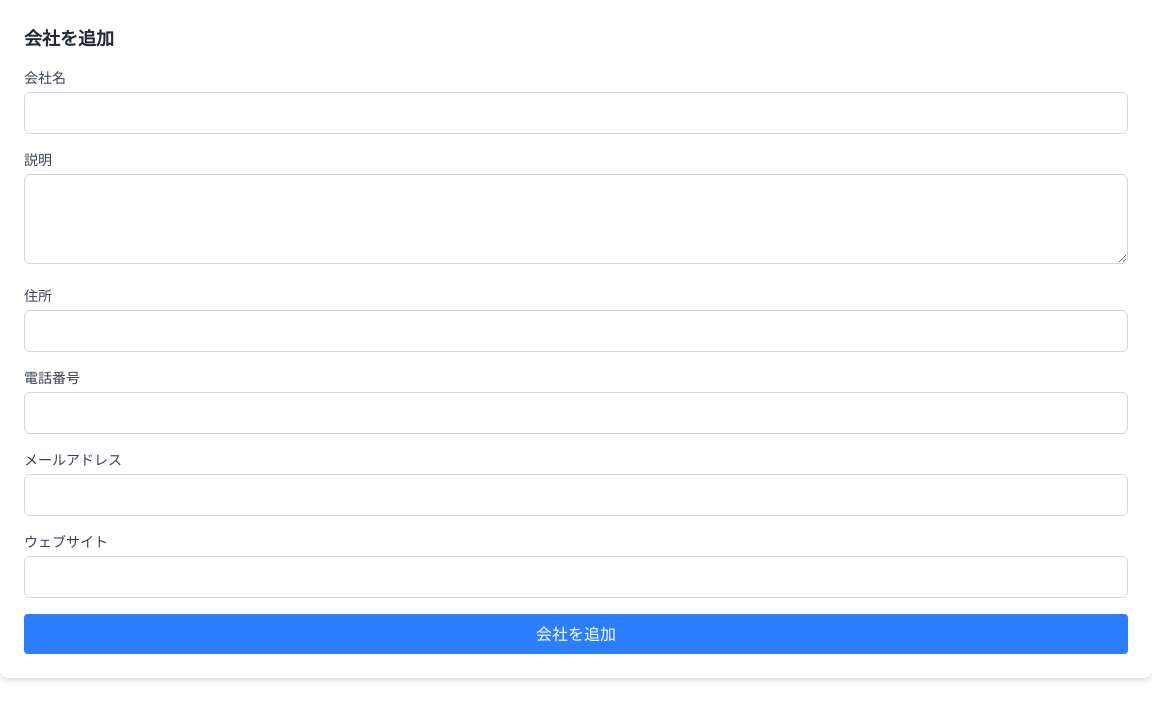
Test: CompanyForm Component › should show loading state during submission
The width and height of the screenshot is (1152, 720).
# Fill in the required field
Type "Test Company" into the field labelled "会社名" at (576, 113), box [24,92,1128,134]
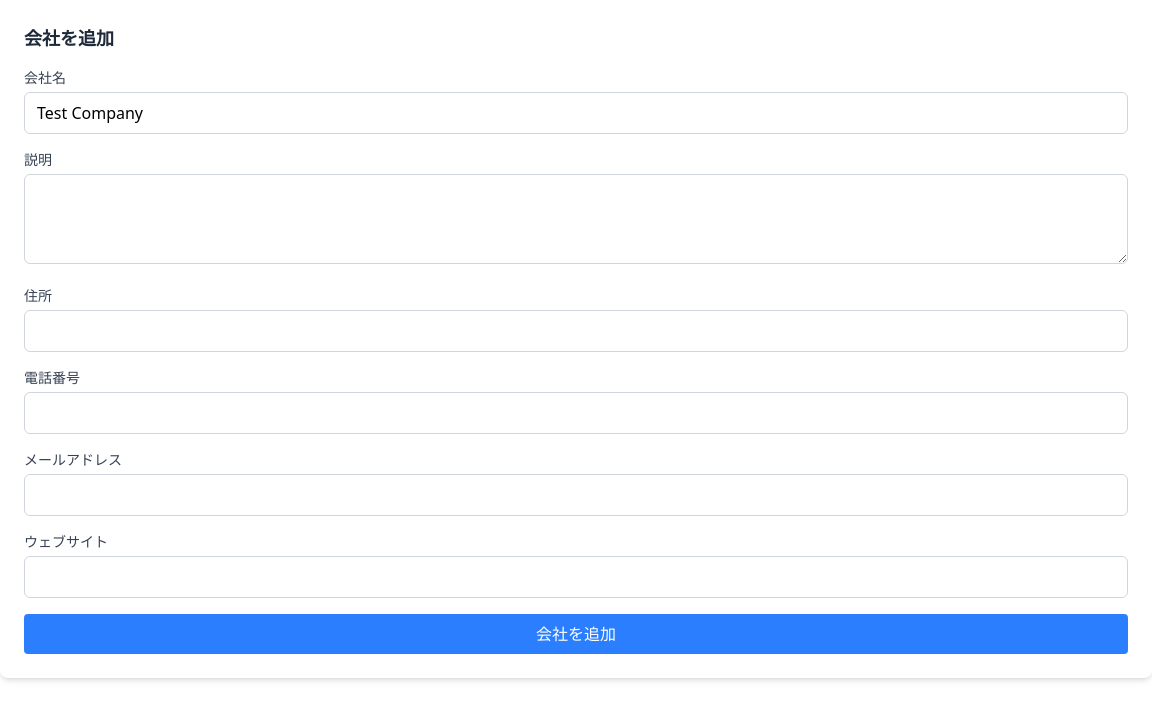
# Submit the form
Click the button "会社を追加" at (576, 634), box [24,614,1128,654]
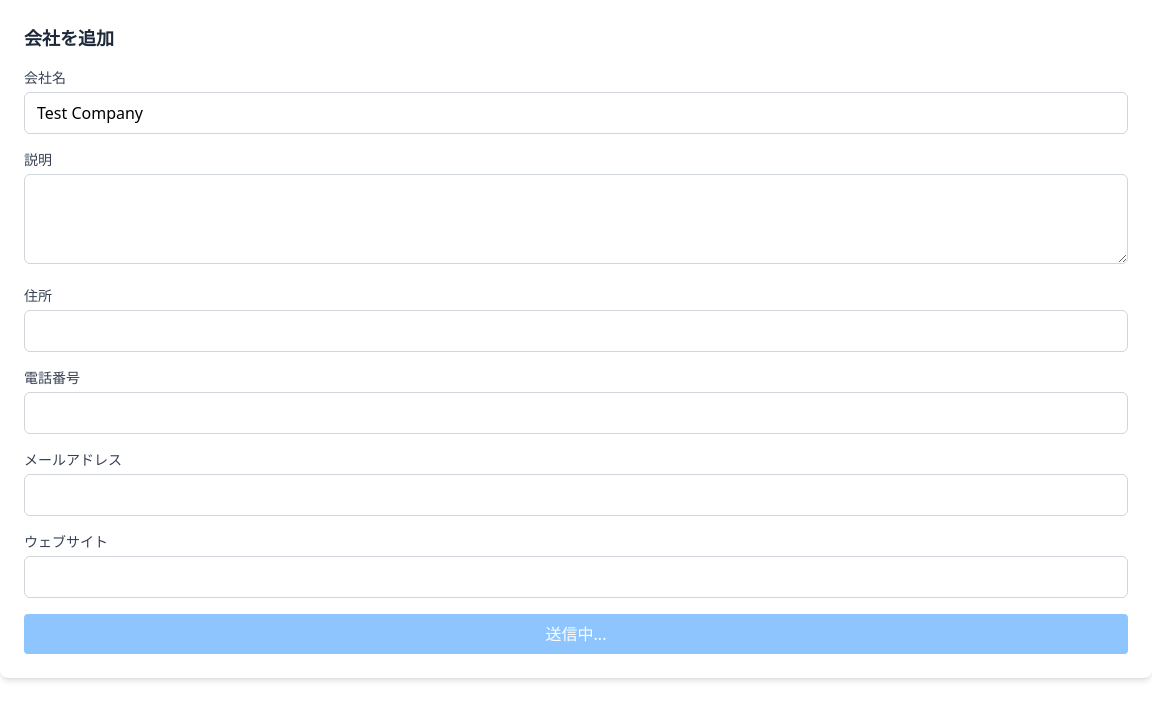
Now the button "送信中..." is disabled, box [24,614,1128,654]
